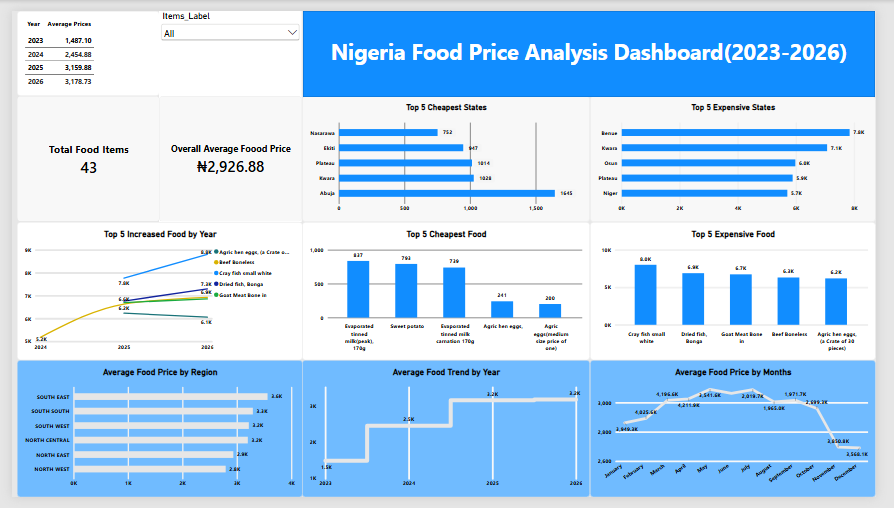

This screenshot's page, from the dashboard's own definition file:
{"tool":"powerbi","page":{"name":"Page 1","canvas":[1920,1080],"ordinal":0},"visuals":[{"type":"cardVisual","fields":{"Data":["Food_Price_Analysis.Total Food Items"]},"box":[10.1,189,317.5,279.7],"z":0},{"type":"cardVisual","fields":{"Data":["Food_Price_Analysis.Total Average"]},"box":[327.6,189,317.5,279.7],"z":1000},{"type":"lineChart","title":"Average Food Trend by Year","fields":{"Category":["Food_Price_Analysis.Date.Variation.Date Hierarchy.Year","Food_Price_Analysis.Date.Variation.Date Hierarchy.Day"],"Y":["Avg(Food_Price_Analysis.Average Prices)"]},"box":[645,776.1,640,304.9],"z":2000},{"type":"lineChart","title":"Average Food Price by Months","fields":{"Category":["Food_Price_Analysis.Month Name"],"Y":["Avg(Food_Price_Analysis.Average Prices)"]},"box":[1285,776.1,635,304.9],"z":3000},{"type":"clusteredBarChart","title":"Average Food Price by Region","fields":{"Category":["Food_Price_Analysis.Regional"],"Y":["Avg(Food_Price_Analysis.Average of Regional)"]},"box":[10.1,776.1,635,304.9],"z":4000},{"type":"clusteredColumnChart","title":"Top 5 Cheapest Food","fields":{"Category":["Food_Price_Analysis.Items_Label"],"Y":["Avg(Food_Price_Analysis.Average Prices)"]},"box":[645,468.7,640,307.4],"z":5000},{"type":"clusteredColumnChart","title":"Top 5 Expensive Food ","fields":{"Category":["Food_Price_Analysis.Items_Label"],"Y":["Avg(Food_Price_Analysis.Average Prices)"]},"box":[1285,468.7,635,307.4],"z":6000},{"type":"lineChart","title":"Top 5 Increased Food by Year","fields":{"Category":["Food_Price_Analysis.Date.Variation.Date Hierarchy.Year"],"Series":["Food_Price_Analysis.Items_Label"],"Y":["Avg(Food_Price_Analysis.Average Prices)"]},"box":[10.1,468.7,635,307.4],"z":7000},{"type":"clusteredBarChart","title":"Top 5 Expensive States","fields":{"Category":["Food_Price_Analysis.Highest_State"],"Y":["Avg(Food_Price_Analysis.Highest_State_Price)"]},"box":[1285,189,635,279.7],"z":8000},{"type":"clusteredBarChart","title":"Top 5 Cheapest States","fields":{"Category":["Food_Price_Analysis.Lowest_State"],"Y":["Avg(Food_Price_Analysis.Lowest_State_Price)"]},"box":[645,189,640,280],"z":9000},{"type":"tableEx","fields":{"Values":["Food_Price_Analysis.Date.Variation.Date Hierarchy.Year","Avg(Food_Price_Analysis.Average Prices)"]},"box":[10.1,0,317.5,189],"z":10000},{"type":"slicer","fields":{"Values":["Food_Price_Analysis.Items_Label"]},"box":[326.7,0,317.5,189],"z":11000},{"type":"shape","box":[646.7,0,1271.1,191.1],"z":12000},{"type":"textbox","box":[646.7,0,1271.1,191.1],"z":13000}]}

Visuals, with their boxes in screenshot pixels (x1, y1, x2, y2), scaled from the page's 1920x1080 canvas onto the 894x508 screenshot:
cardVisual - Food_Price_Analysis.Total Food Items: (x1=5, y1=89, x2=153, y2=220)
cardVisual - Food_Price_Analysis.Total Average: (x1=153, y1=89, x2=300, y2=220)
"Average Food Trend by Year" lineChart: (x1=300, y1=365, x2=598, y2=507)
"Average Food Price by Months" lineChart: (x1=598, y1=365, x2=893, y2=507)
"Average Food Price by Region" clusteredBarChart: (x1=5, y1=365, x2=300, y2=507)
"Top 5 Cheapest Food" clusteredColumnChart: (x1=300, y1=220, x2=598, y2=365)
"Top 5 Expensive Food " clusteredColumnChart: (x1=598, y1=220, x2=893, y2=365)
"Top 5 Increased Food by Year" lineChart: (x1=5, y1=220, x2=300, y2=365)
"Top 5 Expensive States" clusteredBarChart: (x1=598, y1=89, x2=893, y2=220)
"Top 5 Cheapest States" clusteredBarChart: (x1=300, y1=89, x2=598, y2=221)
tableEx - Food_Price_Analysis.Date.Variation.Date Hierarchy.Year x Avg(Food_Price_Analysis.Average Prices): (x1=5, y1=0, x2=153, y2=89)
slicer - Food_Price_Analysis.Items_Label: (x1=152, y1=0, x2=300, y2=89)
shape: (x1=301, y1=0, x2=893, y2=90)
textbox: (x1=301, y1=0, x2=893, y2=90)
